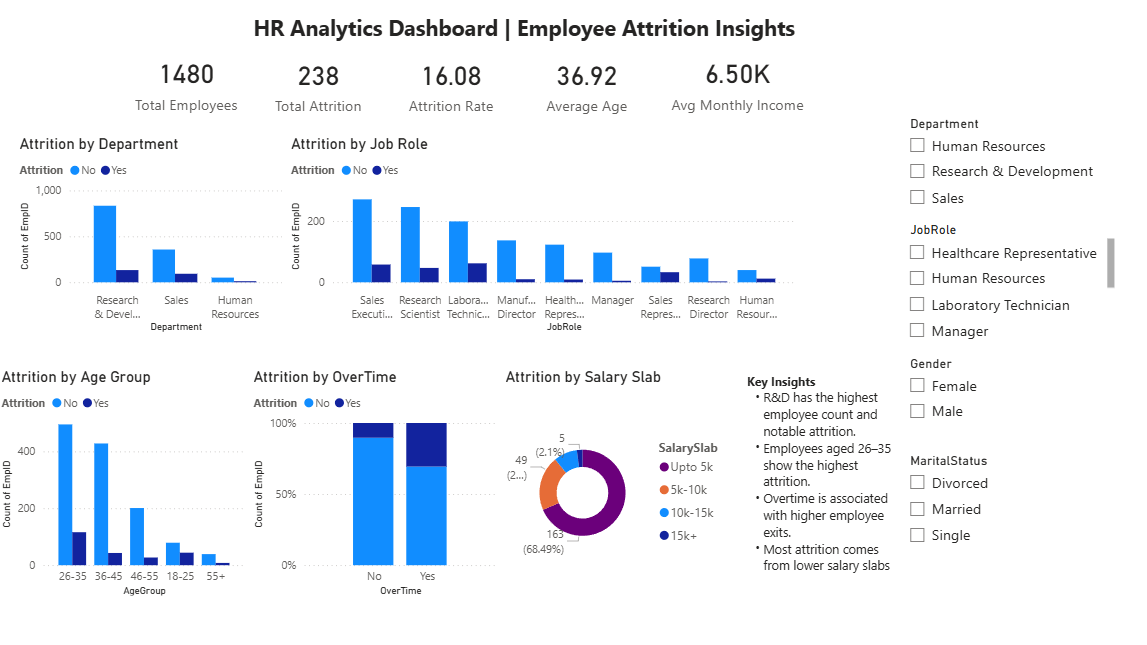

The page's visual inventory and layout, read from the dashboard file:
{"tool":"powerbi","page":{"name":"Page 1","canvas":[1280,720],"ordinal":0},"visuals":[{"type":"clusteredColumnChart","title":"Attrition by Department","fields":{"Category":["HR_Analytics.Department"],"Y":["CountNonNull(HR_Analytics.EmpID)"],"Series":["HR_Analytics.Attrition"]},"box":[20,150,301.7,223.3],"z":0},{"type":"clusteredColumnChart","title":"Attrition by Job Role","fields":{"Series":["HR_Analytics.Attrition"],"Category":["HR_Analytics.JobRole"],"Y":["CountNonNull(HR_Analytics.EmpID)"]},"box":[321.7,150,570,223.3],"z":1000},{"type":"clusteredColumnChart","title":"Attrition by Age Group","fields":{"Category":["HR_Analytics.AgeGroup"],"Y":["CountNonNull(HR_Analytics.EmpID)"],"Series":["HR_Analytics.Attrition"]},"box":[0,408.3,280,258.3],"z":2000},{"type":"donutChart","title":"Attrition by Salary Slab","fields":{"Category":["HR_Analytics.SalarySlab"],"Y":["CountNonNull(HR_Analytics.EmpID)"]},"box":[560,408.3,263.3,258.3],"z":3000},{"type":"hundredPercentStackedColumnChart","title":"Attrition by OverTime","fields":{"Category":["HR_Analytics.OverTime"],"Y":["CountNonNull(HR_Analytics.EmpID)"],"Series":["HR_Analytics.Attrition"]},"box":[280,408.3,280,258.3],"z":4000},{"type":"slicer","fields":{"Values":["HR_Analytics.Department"]},"box":[1001.7,123.3,245,118.3],"z":5000},{"type":"slicer","fields":{"Values":["HR_Analytics.Gender"]},"box":[1001.7,390,245,108.3],"z":6000},{"type":"slicer","fields":{"Values":["HR_Analytics.JobRole"]},"box":[1001.7,241.7,245,148.3],"z":7000},{"type":"slicer","fields":{"Values":["HR_Analytics.MaritalStatus"]},"box":[1001.7,498.3,245,148.3],"z":8000},{"type":"textbox","box":[280,8.3,611.7,45],"z":9000},{"type":"card","fields":{"Values":["HR_Analytics.Total Employees"]},"box":[140,50,140,81.7],"z":10000},{"type":"card","fields":{"Values":["HR_Analytics.Total Attrition"]},"box":[280,53.3,153.3,78.3],"z":11000},{"type":"card","fields":{"Values":["HR_Analytics.Attrition Rate"]},"box":[428.3,53.3,151.7,78.3],"z":12000},{"type":"card","fields":{"Values":["HR_Analytics.Average Age"]},"box":[580,53.3,150,78.3],"z":13000},{"type":"card","fields":{"Values":["HR_Analytics.Average Income"]},"box":[730,50,185,81.7],"z":14000},{"type":"textbox","box":[828.3,408.3,173.3,258.3],"z":14001}]}

Visuals, with their boxes in screenshot pixels (x1, y1, x2, y2), scaled from the page's 1280x720 canvas onto the 1147x645 screenshot:
"Attrition by Department" clusteredColumnChart: x1=18, y1=134, x2=288, y2=334
"Attrition by Job Role" clusteredColumnChart: x1=288, y1=134, x2=799, y2=334
"Attrition by Age Group" clusteredColumnChart: x1=0, y1=366, x2=251, y2=597
"Attrition by Salary Slab" donutChart: x1=502, y1=366, x2=738, y2=597
"Attrition by OverTime" hundredPercentStackedColumnChart: x1=251, y1=366, x2=502, y2=597
slicer - HR_Analytics.Department: x1=898, y1=110, x2=1117, y2=216
slicer - HR_Analytics.Gender: x1=898, y1=349, x2=1117, y2=446
slicer - HR_Analytics.JobRole: x1=898, y1=217, x2=1117, y2=349
slicer - HR_Analytics.MaritalStatus: x1=898, y1=446, x2=1117, y2=579
textbox: x1=251, y1=7, x2=799, y2=48
card - HR_Analytics.Total Employees: x1=125, y1=45, x2=251, y2=118
card - HR_Analytics.Total Attrition: x1=251, y1=48, x2=388, y2=118
card - HR_Analytics.Attrition Rate: x1=384, y1=48, x2=520, y2=118
card - HR_Analytics.Average Age: x1=520, y1=48, x2=654, y2=118
card - HR_Analytics.Average Income: x1=654, y1=45, x2=820, y2=118
textbox: x1=742, y1=366, x2=898, y2=597
